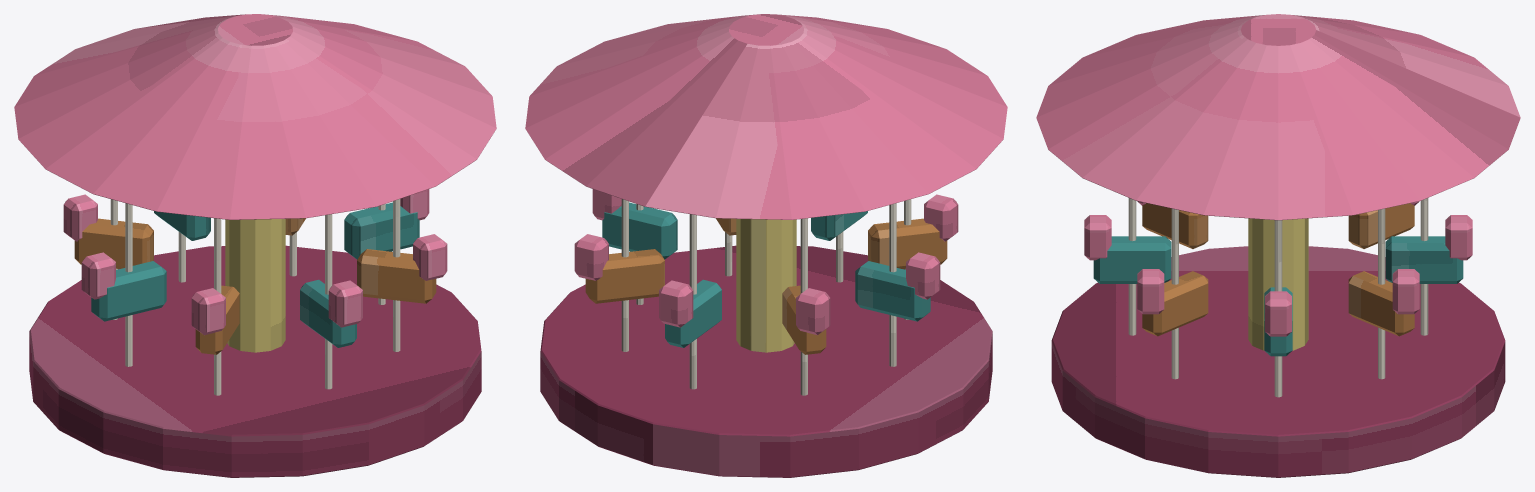
The model's file is carnival_carousel.glb.
The picture shows the model from 3 angles, left to right: view 1: azimuth 30°, elevation 25°; view 2: azimuth 150°, elevation 25°; view 3: azimuth 270°, elevation 25°; orthographic projection.
Parts seen in each view (by area): view 1: Canopy, CarouselBase, CenterColumn, HorseBody_7, HorseBody_4, HorseBody_0, HorseBody_3, HorseBody_6, HorseHead_6, HorseHead_5, HorseBody_5, HorseHead_7 (+8 smaller); view 2: Canopy, CarouselBase, CenterColumn, HorseBody_1, HorseBody_4, HorseBody_0, HorseBody_5, HorseBody_2, HorseHead_2, HorseHead_3, HorseBody_3, HorseHead_1 (+8 smaller); view 3: Canopy, CarouselBase, CenterColumn, HorseBody_2, HorseBody_6, HorseBody_1, HorseBody_7, HorseBody_3, HorseBody_5, HorseHead_1, HorseHead_7, HorseHead_0 (+8 smaller).
Part boxes in pixels (x1=…): Canopy: x1=14, y1=14, x2=496, y2=219; CarouselBase: x1=29, y1=245, x2=481, y2=477; CenterColumn: x1=225, y1=219, x2=285, y2=352; HorseBody_7: x1=357, y1=249, x2=436, y2=303; HorseBody_4: x1=91, y1=261, x2=166, y2=321; HorseBody_0: x1=344, y1=202, x2=419, y2=259; HorseBody_3: x1=74, y1=218, x2=153, y2=268; HorseBody_6: x1=300, y1=279, x2=356, y2=347; HorseHead_6: x1=328, y1=280, x2=362, y2=327; HorseHead_5: x1=191, y1=288, x2=225, y2=335; HorseBody_5: x1=195, y1=285, x2=239, y2=354; HorseHead_7: x1=413, y1=234, x2=447, y2=280; Canopy: x1=525, y1=14, x2=1007, y2=219; CarouselBase: x1=540, y1=245, x2=992, y2=477; CenterColumn: x1=736, y1=219, x2=796, y2=352; HorseBody_1: x1=585, y1=249, x2=664, y2=303; HorseBody_4: x1=855, y1=261, x2=930, y2=321; HorseBody_0: x1=602, y1=202, x2=677, y2=259; HorseBody_5: x1=868, y1=218, x2=947, y2=268; HorseBody_2: x1=665, y1=279, x2=721, y2=347; HorseHead_2: x1=659, y1=280, x2=693, y2=327; HorseHead_3: x1=796, y1=288, x2=830, y2=335; HorseBody_3: x1=782, y1=285, x2=826, y2=354; HorseHead_1: x1=574, y1=234, x2=608, y2=280; Canopy: x1=1036, y1=14, x2=1520, y2=220; CarouselBase: x1=1051, y1=246, x2=1505, y2=477; CenterColumn: x1=1248, y1=218, x2=1308, y2=350; HorseBody_2: x1=1385, y1=236, x2=1463, y2=283; HorseBody_6: x1=1093, y1=236, x2=1171, y2=283; HorseBody_1: x1=1348, y1=271, x2=1414, y2=336; HorseBody_7: x1=1142, y1=271, x2=1208, y2=336; HorseBody_3: x1=1348, y1=203, x2=1414, y2=248; HorseBody_5: x1=1142, y1=203, x2=1208, y2=248; HorseHead_1: x1=1392, y1=269, x2=1419, y2=314; HorseHead_7: x1=1137, y1=269, x2=1164, y2=314; HorseHead_0: x1=1265, y1=291, x2=1291, y2=336.
Size of the model in its own units: 4.48 by 3.6 by 4.48.
Materials: 1 (1 with a texture image).
